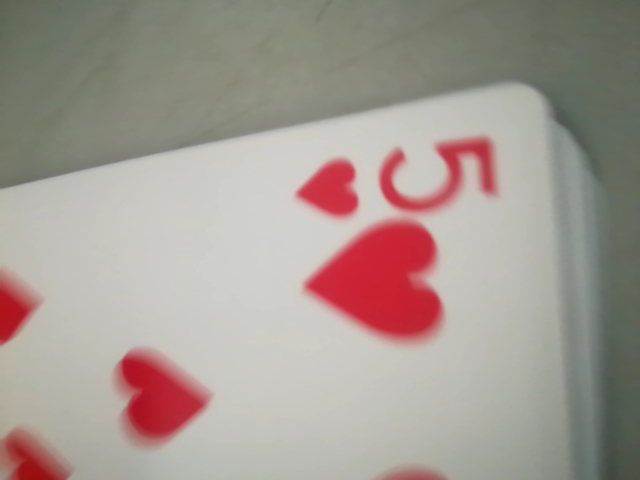hx 5: (292, 127, 515, 225)
